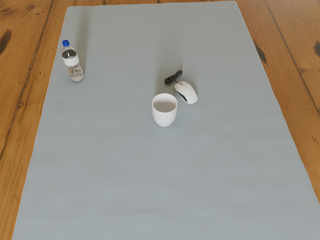bottle: (62, 40, 84, 82)
cup: (152, 94, 177, 127)
mouse: (174, 82, 198, 104)
